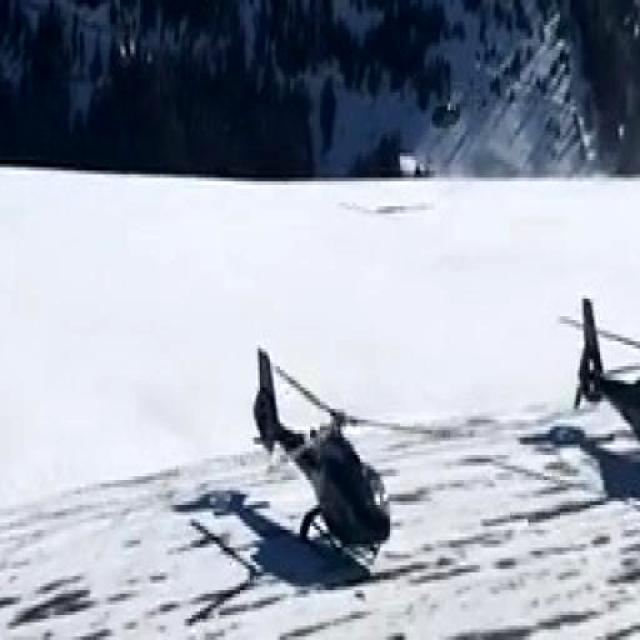drone: (252, 340, 392, 570), (570, 288, 640, 498)
